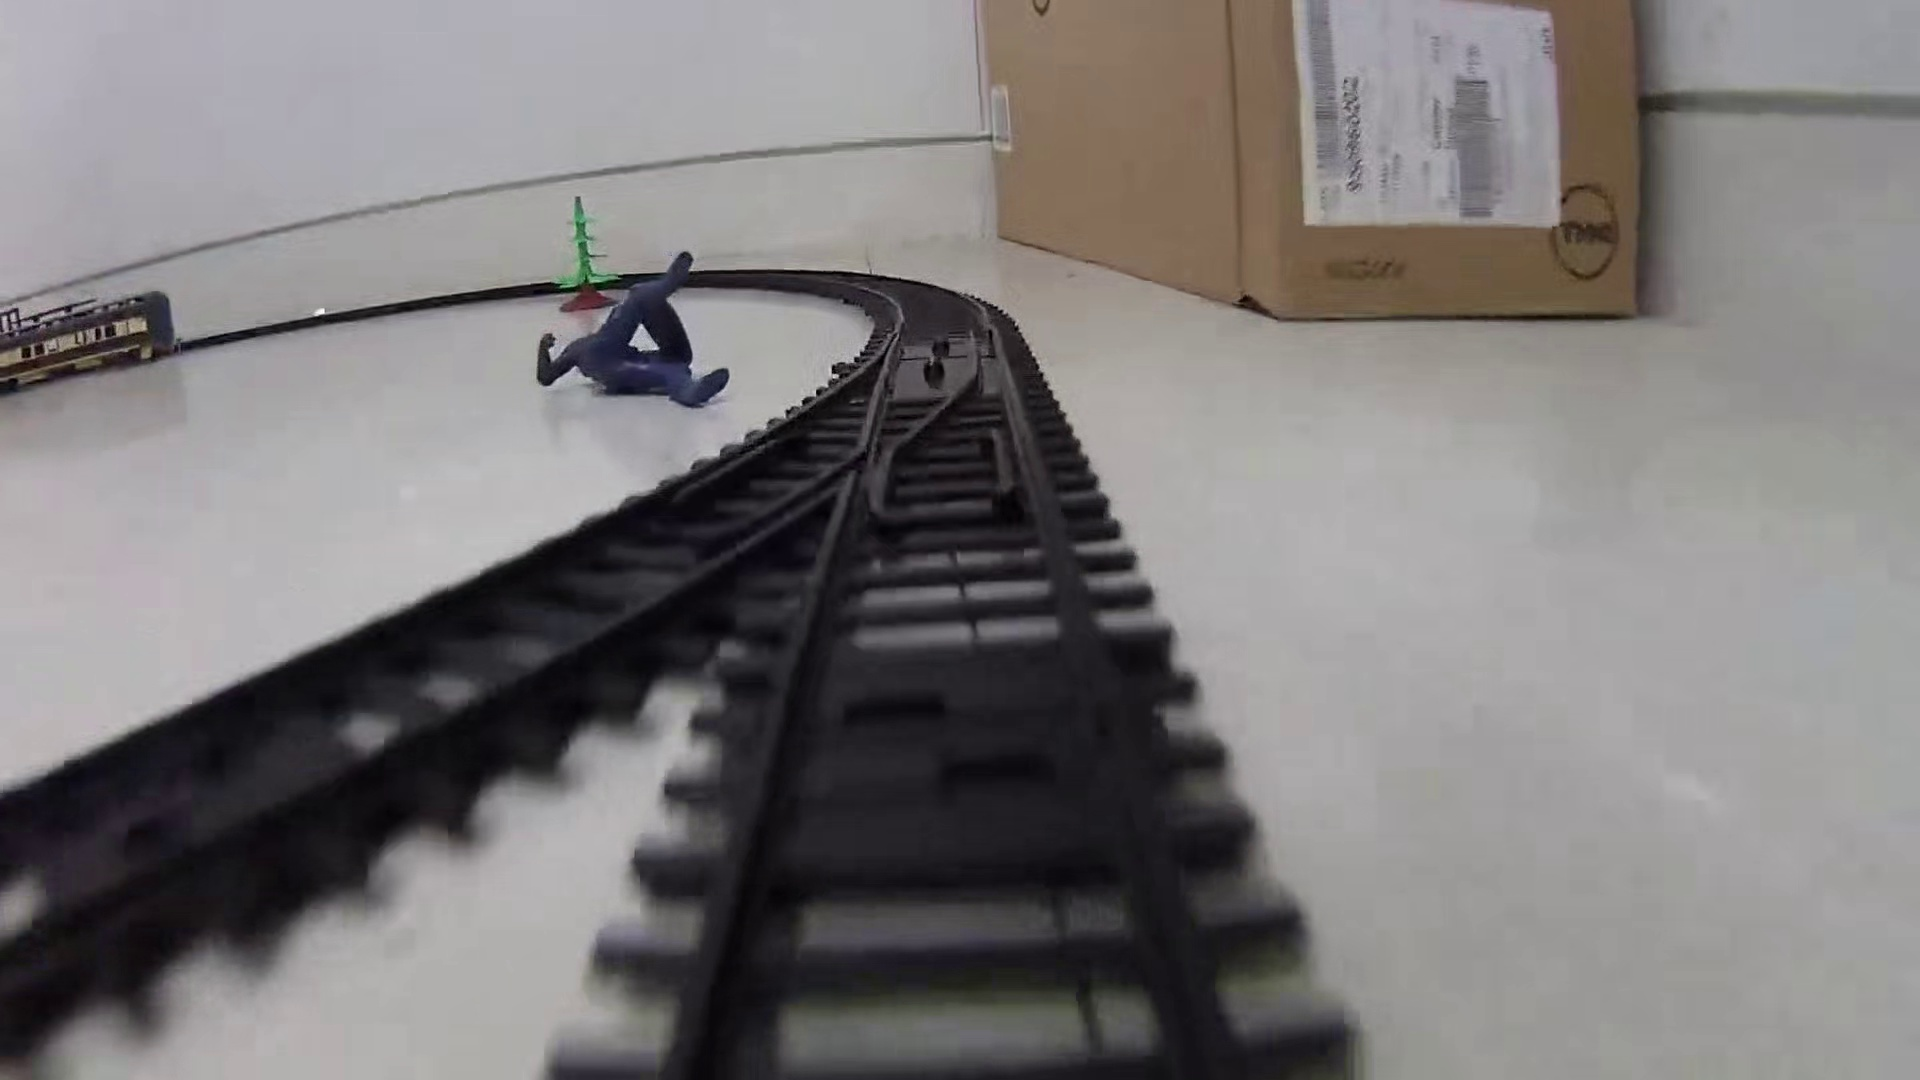people: (531, 248, 730, 411)
tree: (552, 193, 625, 316)
